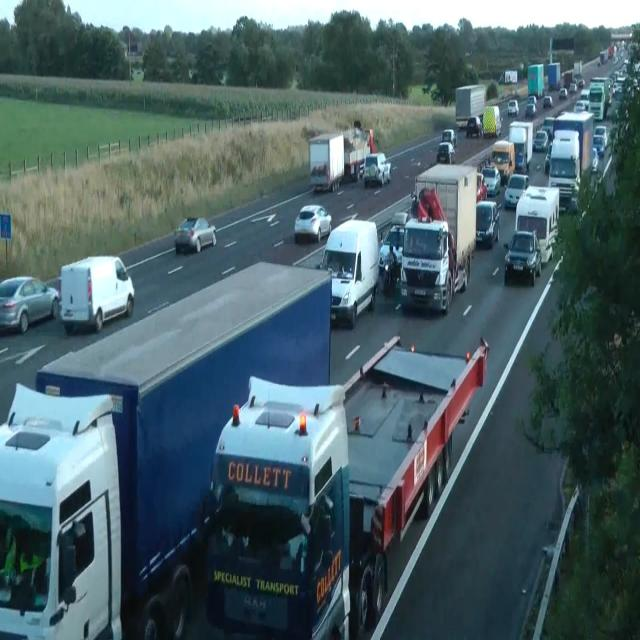bus: (0, 276, 60, 334), (504, 230, 542, 286), (174, 216, 216, 254), (294, 204, 332, 242), (503, 173, 529, 210), (482, 166, 501, 197), (436, 140, 456, 163), (466, 116, 482, 138), (593, 125, 608, 148), (532, 130, 548, 151), (541, 116, 555, 140), (476, 172, 487, 202), (442, 128, 457, 148), (592, 134, 604, 158), (544, 142, 552, 174), (131, 68, 145, 82), (508, 98, 518, 115), (526, 102, 536, 118), (592, 146, 598, 172), (574, 100, 586, 113), (543, 95, 553, 108), (527, 95, 537, 107), (559, 87, 567, 99), (569, 83, 577, 93)
car: (203, 332, 489, 638), (203, 374, 351, 638), (0, 382, 123, 638)
jeep: (319, 218, 379, 328), (59, 255, 135, 332), (399, 217, 456, 315), (379, 210, 409, 284), (359, 151, 391, 187), (475, 199, 499, 247)
minibus: (0, 259, 332, 639), (400, 162, 478, 314), (547, 110, 594, 212), (308, 125, 372, 193), (514, 185, 560, 264), (308, 132, 344, 193), (343, 126, 369, 180), (455, 84, 485, 127), (509, 120, 533, 172), (491, 139, 515, 185), (482, 105, 502, 138), (527, 63, 545, 98), (544, 62, 560, 90), (498, 70, 518, 84)
